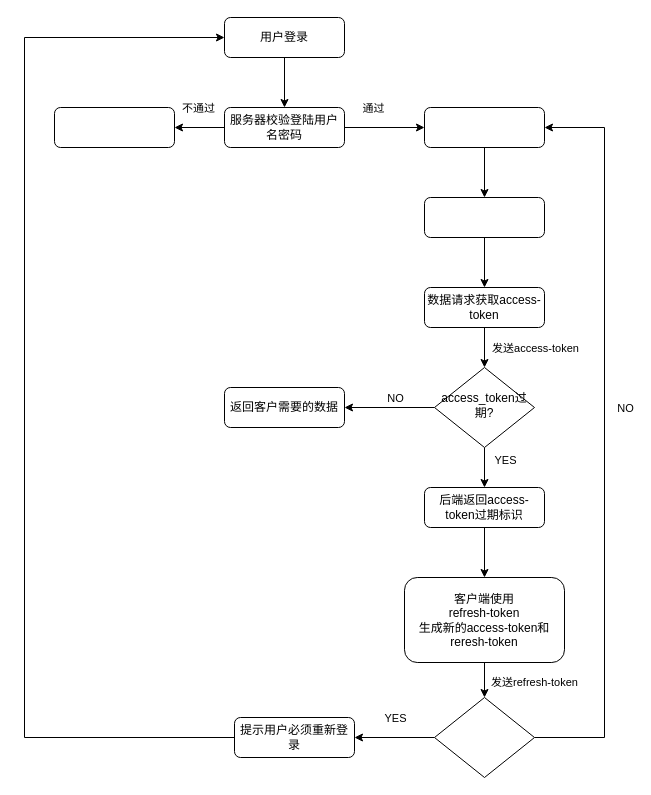
Some shapes in this 651 by 795 pixel diagram are drawn without their labels. Each missing label, with the box of its shape:
refresh-token过期?: (434, 696, 534, 778)
客户端保存到本地 localStorage: (424, 196, 544, 238)
提示用户名和密码错误: (54, 106, 174, 148)
生成新的access-token和refresh-token: (424, 106, 544, 148)
